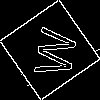W: (25, 25, 78, 79)
